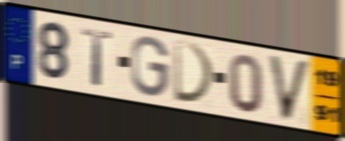0: (226, 51, 264, 116)
8: (37, 20, 71, 82)
D: (172, 38, 218, 107)
G: (129, 34, 171, 99)
T: (80, 26, 115, 89)
V: (266, 53, 312, 124)
